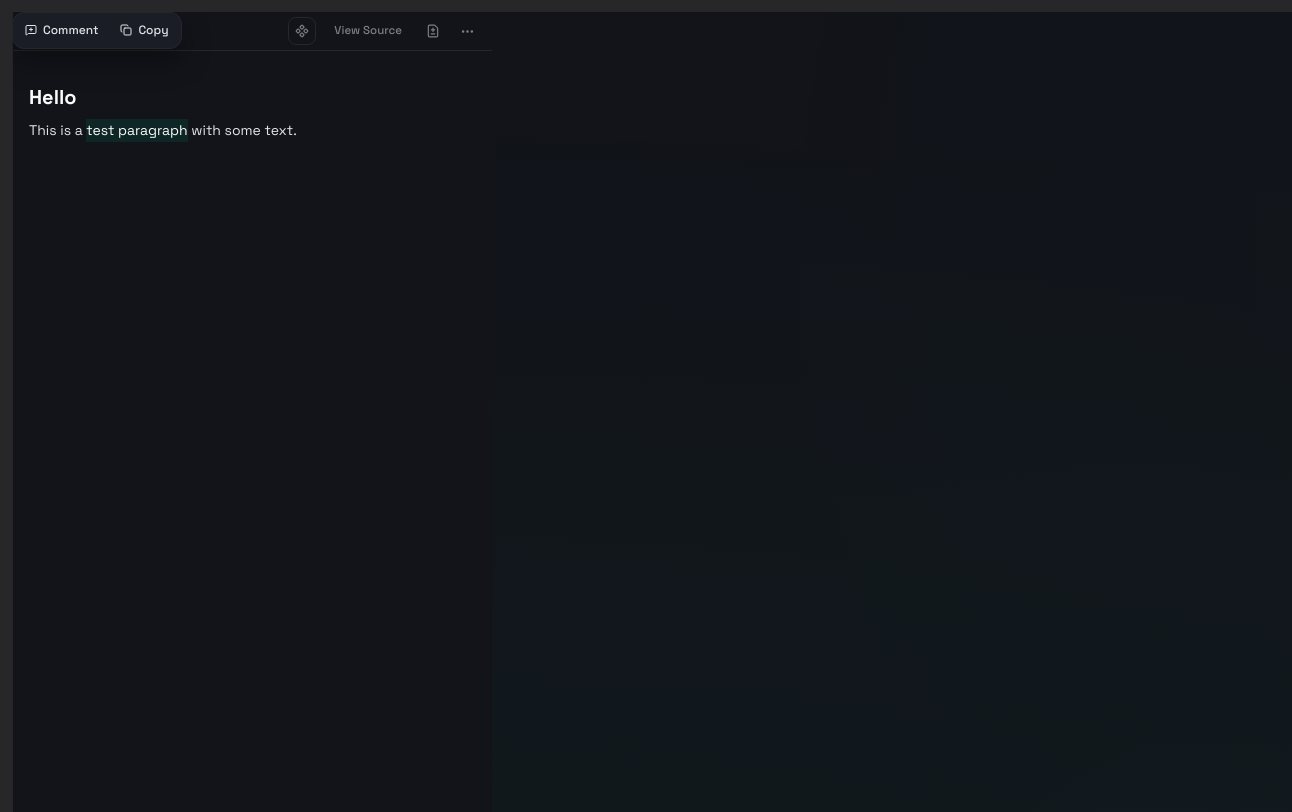
Test: MarkdownPanel comment/copy flow › shows comment popover when Comment is clicked
The image size is (1292, 812).
Click the button "Comment" at (62, 30), box [15,15,108,46]
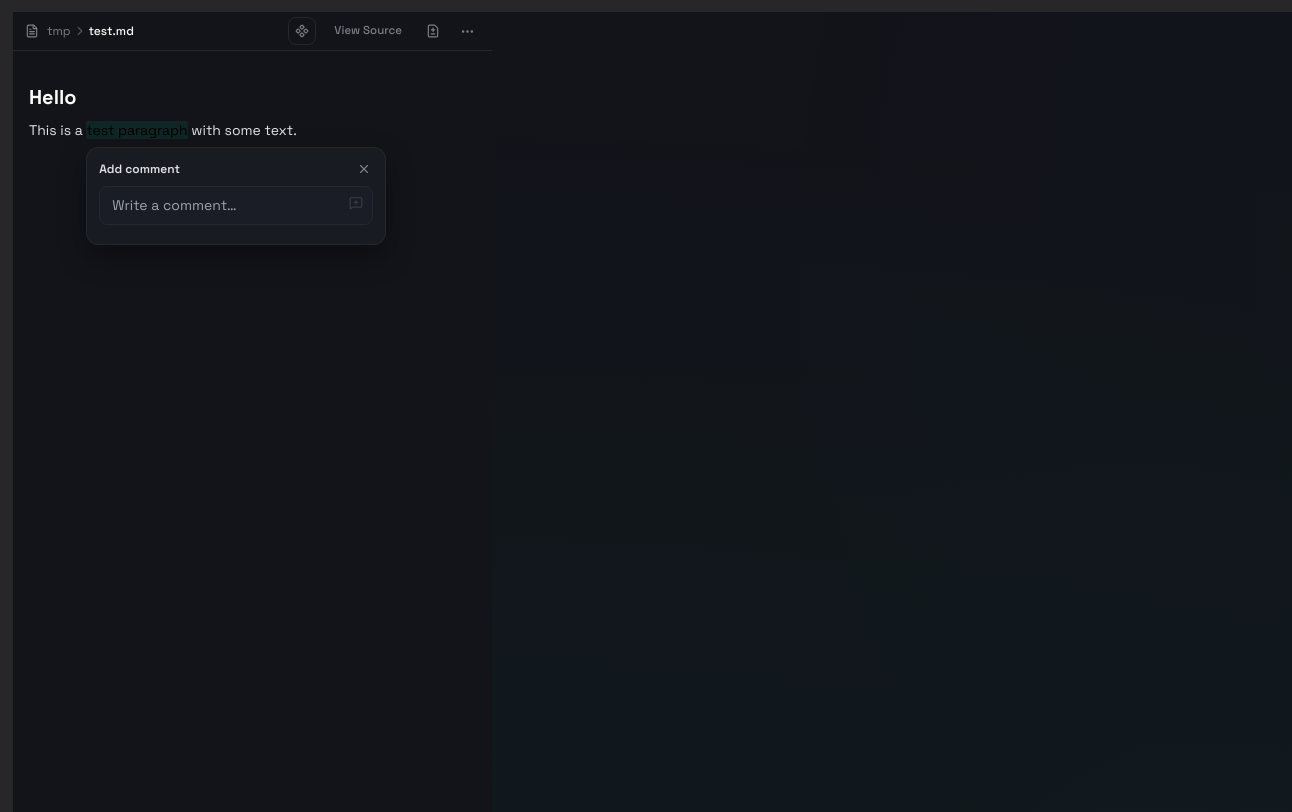
Now the text box with placeholder "Write a comment…" is shown, box [99,186,373,225]
